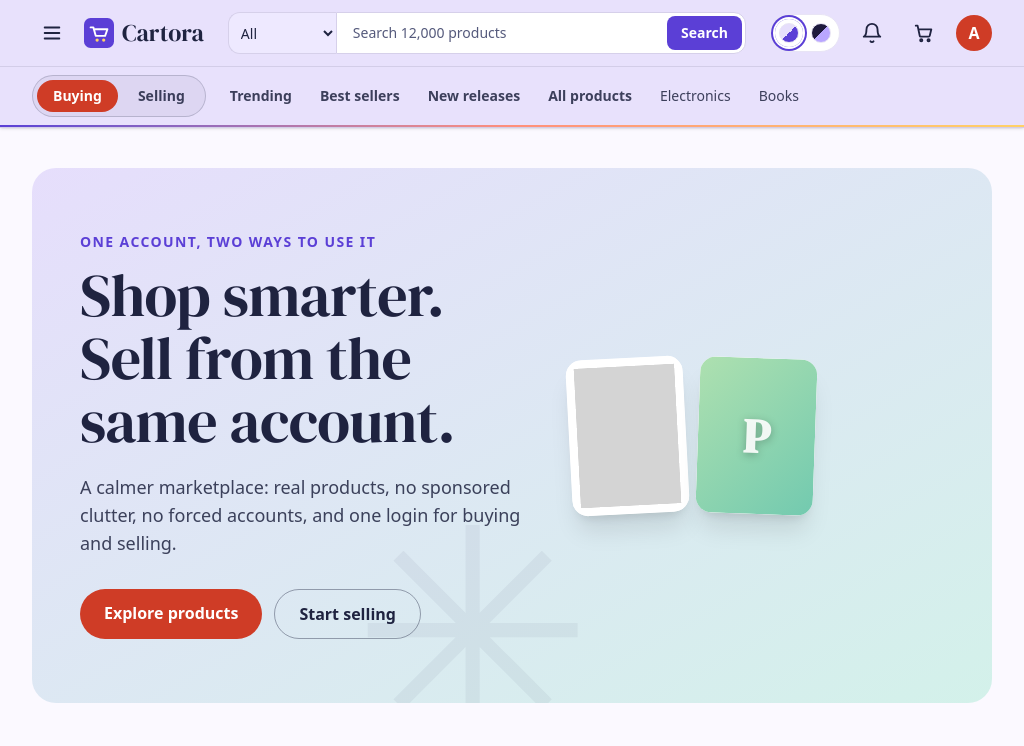
Scenario: buying and selling switch › sends a signed-in customer to seller set-up
Expected: the button named "account menu" is shown, 956,15 -> 992,51
What coordinates should you click on to do the following:
click the link "Selling"
I would click on:
 (161, 96)
Its box is 138,86 -> 185,105.
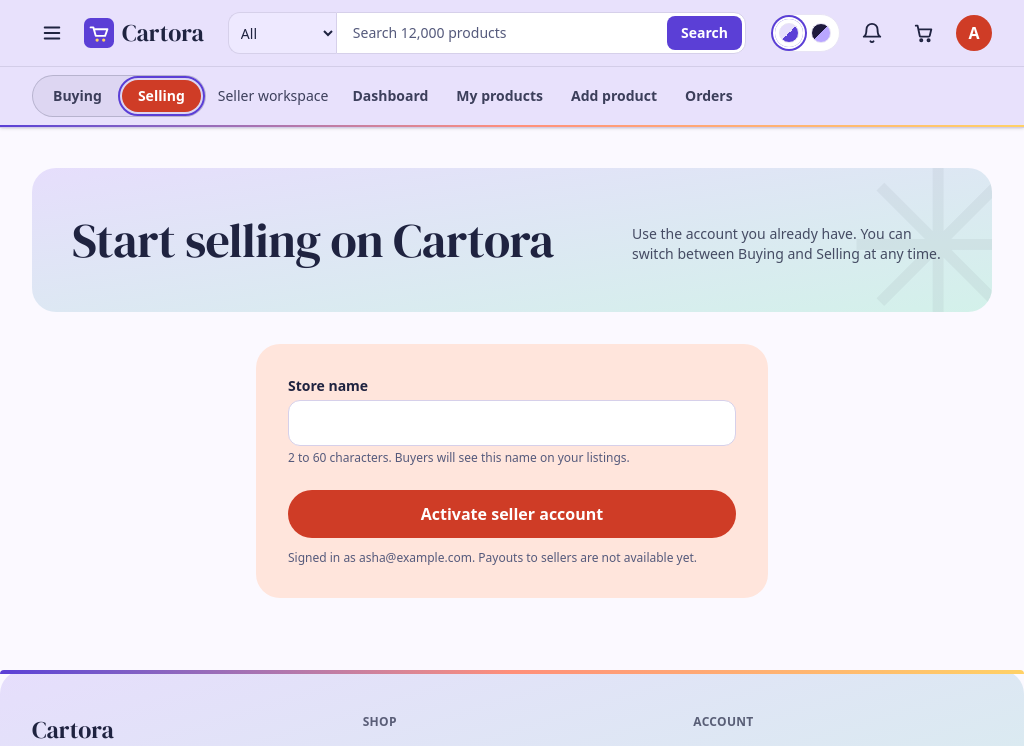
Expected: the heading "Start selling on Cartora" is shown, 72,216 -> 554,264
